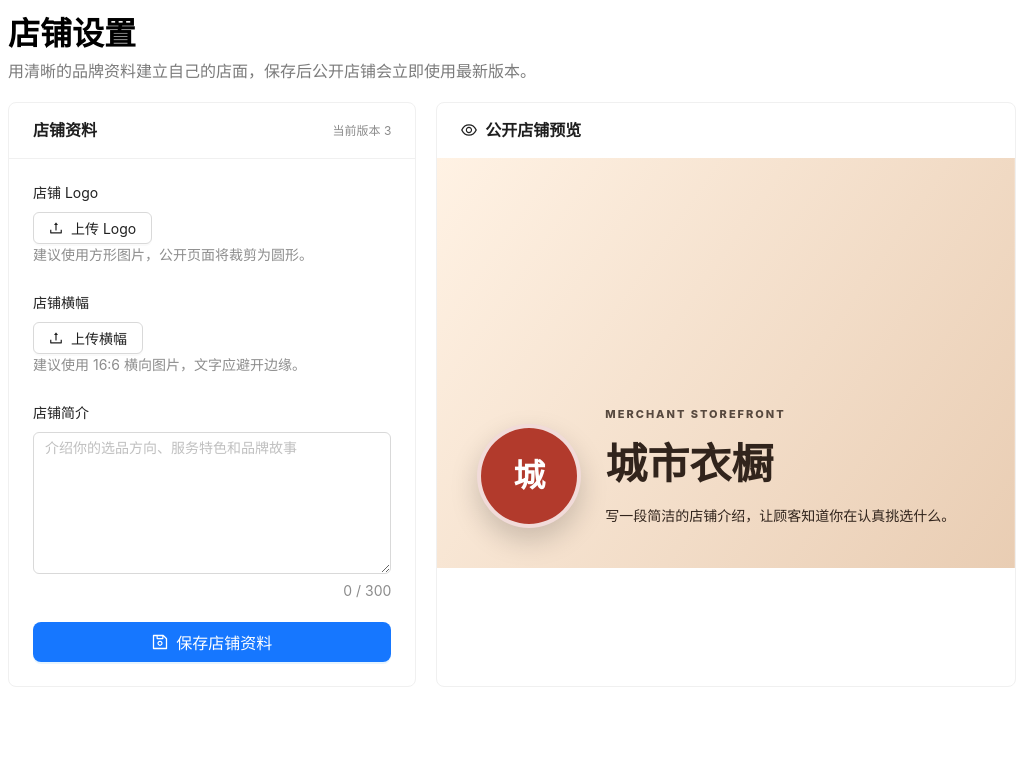
Test: StoreSettingsPage › keeps edits and explains an optimistic-lock conflict
Type "这段编辑不能丢失" into the text box labelled "店铺简介".
click(212, 503); type("这段编辑不能丢失")  # box [33, 432, 391, 574]
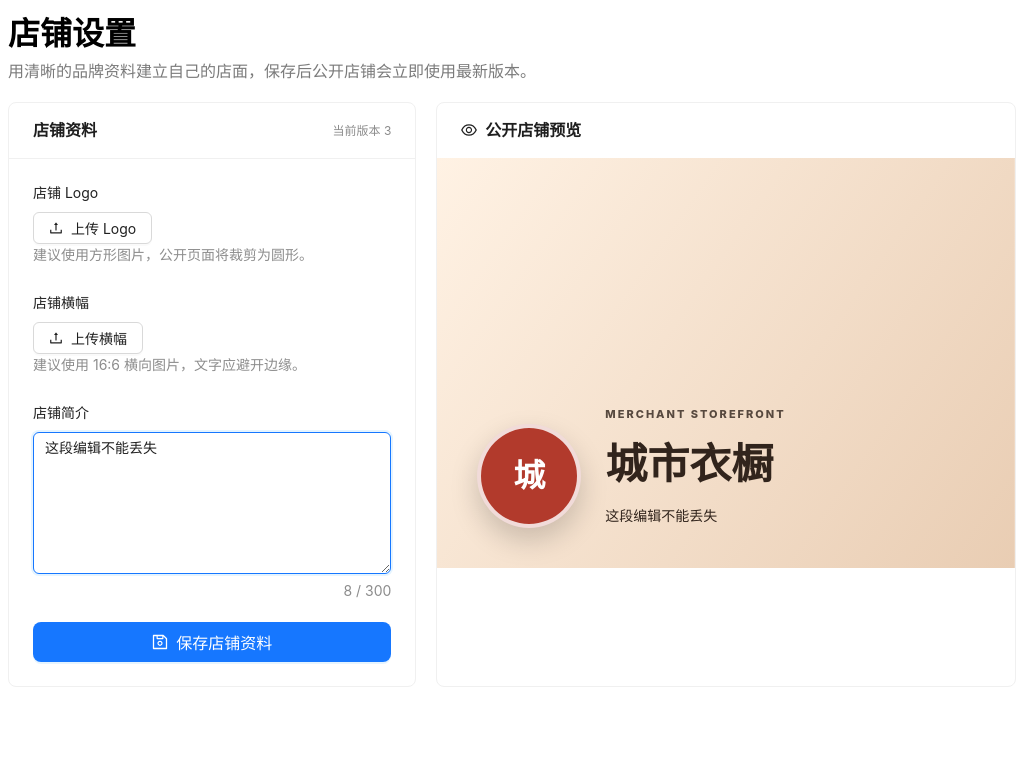
Click the button "保存店铺资料".
click(212, 642)  # box [33, 622, 391, 662]
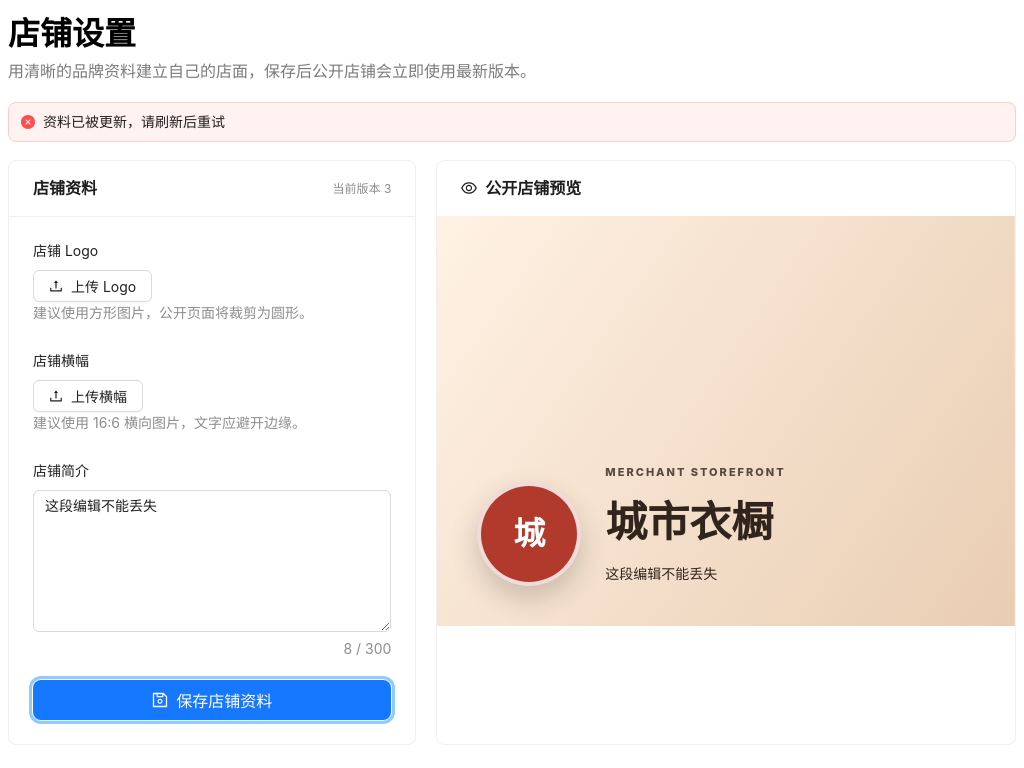
expect the text "资料已被更新，请刷新后重试" is shown: met, box [43, 113, 225, 130]
